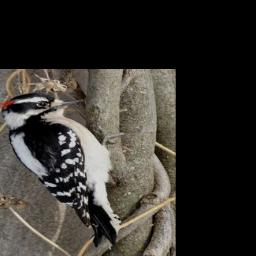Woodpecker: (1, 92, 123, 248)
